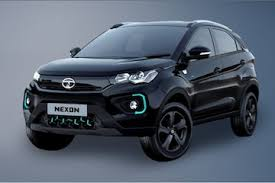Tata Nexon: (22, 19, 260, 161)
